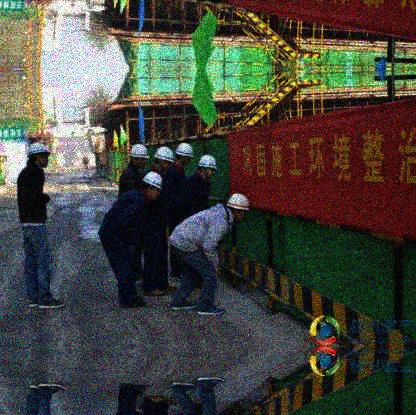helmet: (227, 193, 252, 224), (126, 144, 149, 171), (27, 143, 52, 167), (144, 171, 163, 202), (199, 154, 216, 185), (156, 146, 172, 173), (178, 142, 194, 169)
